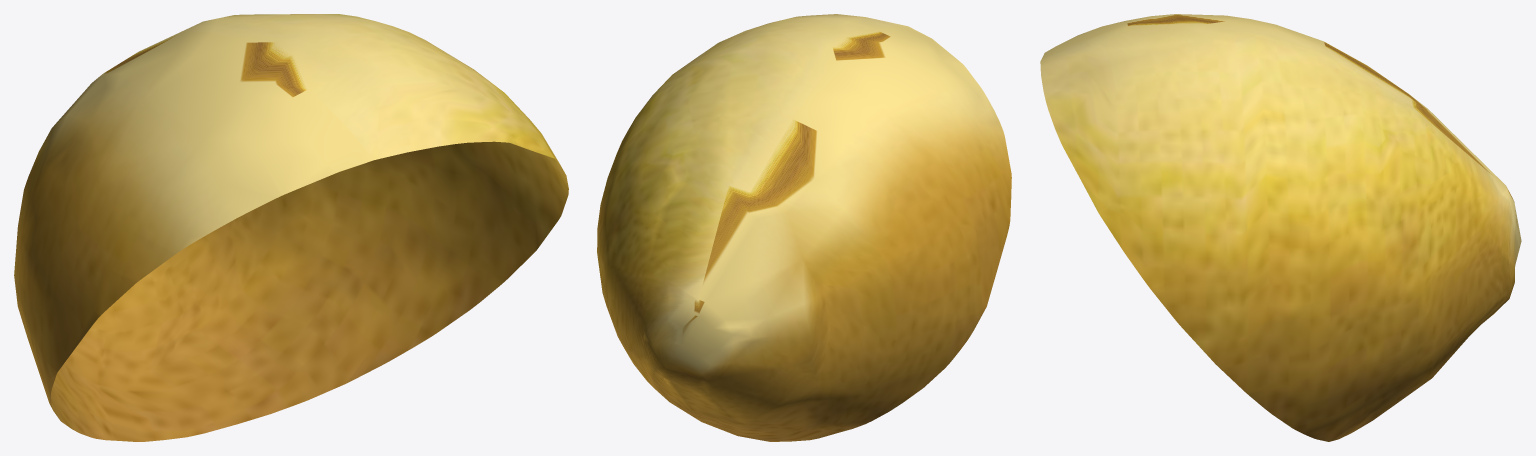
The model's file is citroenOnderkant.obj.
3 views of the same model, side by side, from view 1: azimuth 30°, elevation 25°; view 2: azimuth 150°, elevation 25°; view 3: azimuth 270°, elevation 25° (orthographic). The views are drawn at different scales.
Visible parts, largest first — view 1: Lemon_Whole; view 2: Lemon_Whole; view 3: Lemon_Whole.
Part boxes in pixels (<box>): Lemon_Whole: <box>14,14,568,441</box>; Lemon_Whole: <box>597,14,1011,441</box>; Lemon_Whole: <box>1040,14,1521,441</box>.
Size of the model in its own units: 0.9164 by 0.839 by 0.9568.
Materials: 1 (1 with a texture image).
